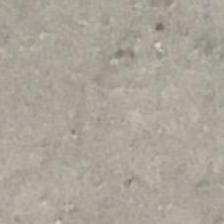Non_Crack: (21, 14, 220, 180)
